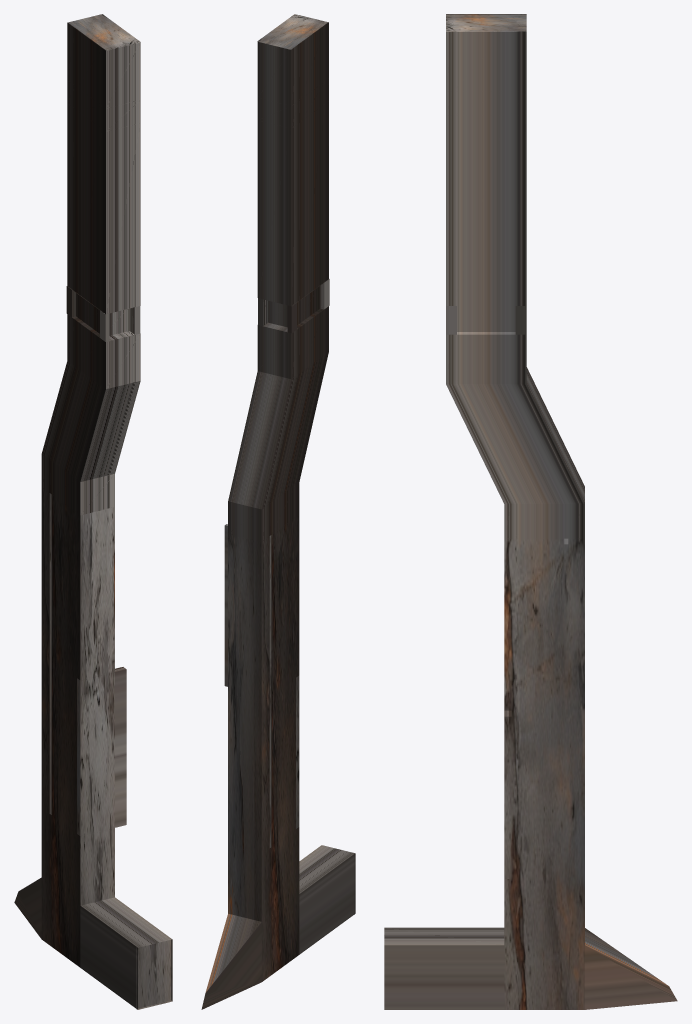
Rendered from left-3.glb.
3 renders of one model, left to right at view 1: azimuth 30°, elevation 25°; view 2: azimuth 150°, elevation 25°; view 3: azimuth 270°, elevation 25°, orthographic. The views are drawn at different scales.
Parts seen in each view (by area): view 1: Cube.002; view 2: Cube.002; view 3: Cube.002.
Boxes of the visible parts, x1,y1,x2,y2 form: Cube.002: (14,14,172,1009); Cube.002: (201,14,355,1009); Cube.002: (384,14,677,1009).
Size of the model in its own units: 0.751 by 13.71 by 3.73.
1 material, 1 textured.
